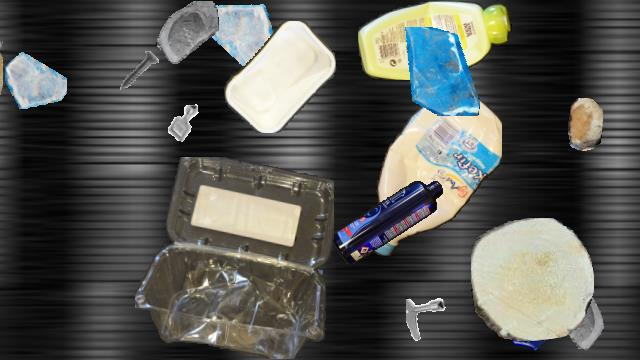glass: (396, 27, 484, 115), (247, 240, 323, 316), (541, 282, 617, 358), (203, 1, 275, 73), (501, 288, 563, 350), (5, 47, 67, 109), (156, 1, 218, 63), (0, 1, 11, 65)
metal: (406, 296, 466, 356), (113, 45, 167, 99), (158, 97, 210, 149), (0, 308, 10, 352)
plastic: (135, 157, 333, 359), (372, 86, 502, 260), (223, 21, 337, 133), (358, 1, 512, 79), (332, 181, 442, 263)
wood: (471, 218, 593, 340), (568, 98, 602, 150), (0, 22, 2, 126)
